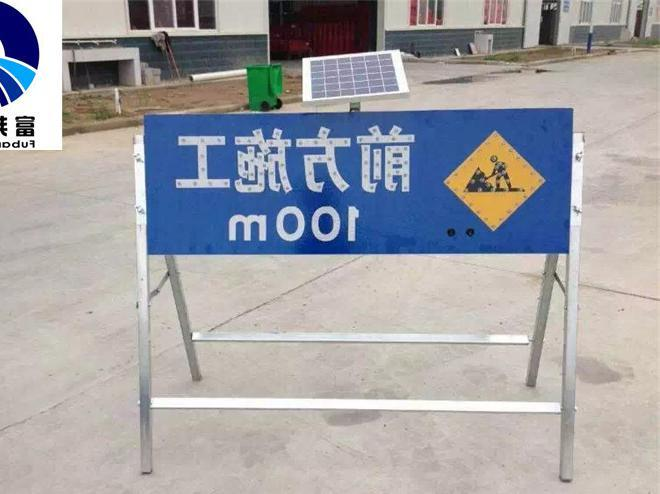sign: (142, 106, 574, 255)
